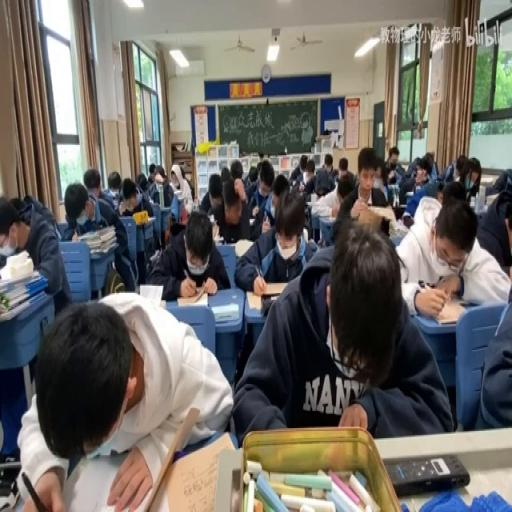calculator: (424, 296, 466, 324), (246, 283, 289, 310), (176, 288, 208, 306), (210, 302, 238, 322), (138, 283, 164, 304), (233, 236, 254, 258), (388, 214, 407, 238), (134, 213, 157, 226), (310, 200, 330, 214), (387, 181, 400, 202), (149, 246, 159, 263), (318, 215, 336, 223), (212, 219, 218, 242), (174, 189, 184, 201), (308, 193, 318, 202), (249, 216, 256, 225), (406, 190, 412, 198)
paper: (234, 219, 448, 442), (18, 290, 230, 509), (393, 192, 508, 313), (0, 194, 74, 317), (61, 179, 133, 296), (149, 206, 228, 297), (474, 279, 512, 431), (344, 145, 391, 219), (246, 158, 278, 233), (154, 162, 186, 228), (397, 150, 435, 200), (200, 169, 226, 219), (482, 166, 510, 202), (314, 155, 336, 196), (334, 192, 356, 232), (119, 176, 142, 214), (0, 199, 19, 239), (441, 181, 467, 206), (382, 144, 400, 180), (290, 154, 309, 186), (271, 175, 289, 202), (435, 158, 454, 182), (107, 170, 121, 194), (454, 158, 468, 179), (137, 170, 149, 194), (230, 158, 243, 180), (146, 179, 160, 199), (467, 161, 480, 182), (146, 160, 156, 180), (247, 165, 258, 183), (302, 176, 314, 192), (220, 166, 230, 185), (155, 174, 165, 188), (338, 158, 347, 173), (426, 149, 434, 162), (256, 161, 262, 176), (332, 168, 338, 182), (436, 188, 442, 202), (258, 152, 265, 161)
person: (386, 452, 468, 494), (0, 458, 21, 482), (380, 216, 391, 235), (393, 203, 406, 219), (458, 300, 476, 307), (216, 236, 224, 243)
